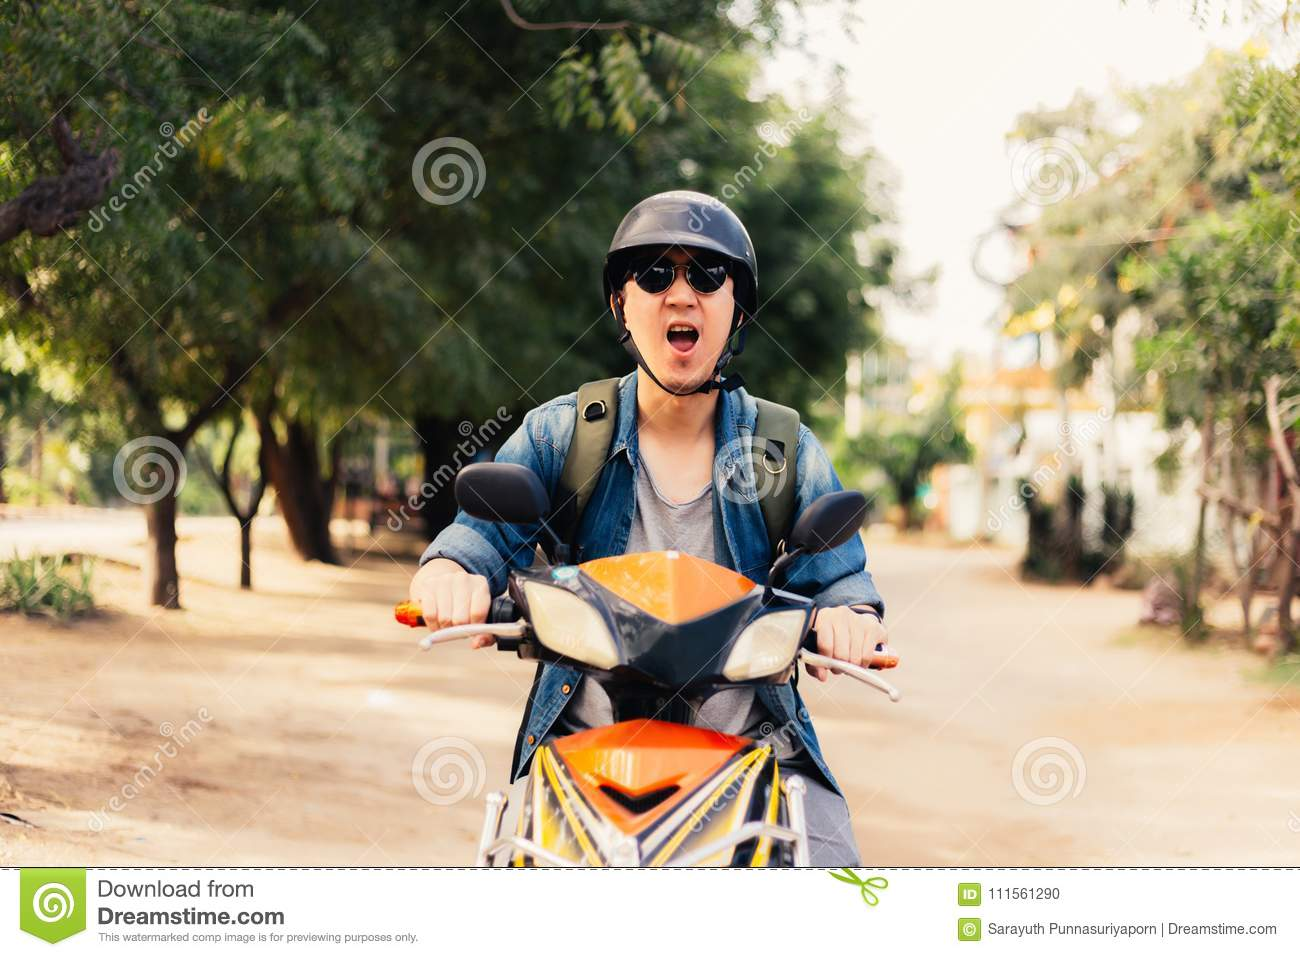helmet: (598, 179, 770, 283)
